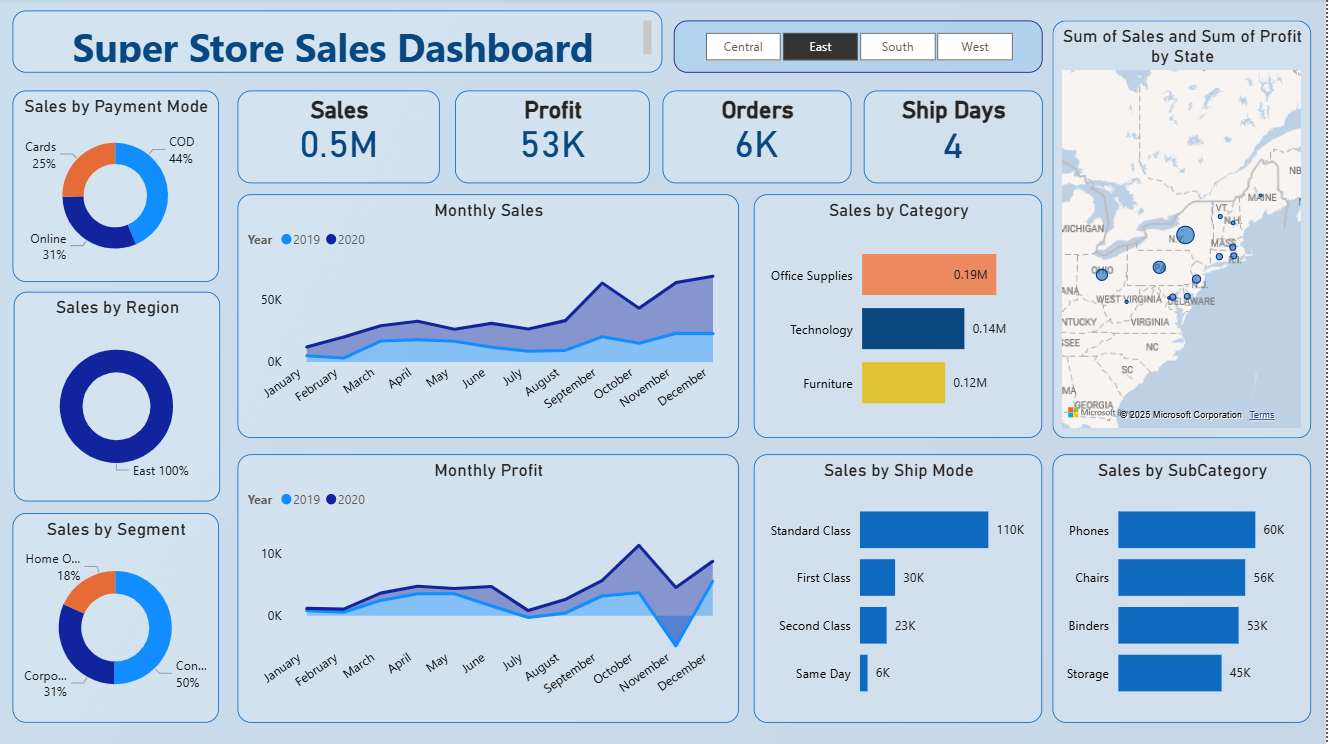

The page's visual inventory and layout, read from the dashboard file:
{"tool":"powerbi","page":{"name":"Page 1","canvas":[1280,720],"ordinal":0},"visuals":[{"type":"clusteredBarChart","title":"Sales by Category","fields":{"Category":["SuperStore_Sales_Dataset.Category"],"Y":["Sum(SuperStore_Sales_Dataset.Sales)"]},"box":[727.5,189.4,278.7,235.3],"z":0},{"type":"clusteredBarChart","title":"Sales by SubCategory","fields":{"Category":["SuperStore_Sales_Dataset.Sub-Category"],"Y":["Sum(SuperStore_Sales_Dataset.Sales)"]},"box":[1015.8,440.4,249.7,259.4],"z":1000},{"type":"clusteredBarChart","title":"Sales by Ship Mode","fields":{"Category":["SuperStore_Sales_Dataset.Ship Mode"],"Y":["Sum(SuperStore_Sales_Dataset.Sales)"]},"box":[727.5,440.4,278.7,259.4],"z":2000},{"type":"stackedAreaChart","title":"Monthly Sales ","fields":{"Y":["Sum(SuperStore_Sales_Dataset.Sales)"],"Category":["SuperStore_Sales_Dataset.Order Date.Variation.Date Hierarchy.Month","SuperStore_Sales_Dataset.Order Date.Variation.Date Hierarchy.Day"],"Series":["SuperStore_Sales_Dataset.Order Date.Variation.Date Hierarchy.Year"]},"box":[229.2,189.4,483.8,235.3],"z":3000},{"type":"stackedAreaChart","title":"Monthly Profit ","fields":{"Category":["SuperStore_Sales_Dataset.Order Date.Variation.Date Hierarchy.Month","SuperStore_Sales_Dataset.Order Date.Variation.Date Hierarchy.Day"],"Series":["SuperStore_Sales_Dataset.Order Date.Variation.Date Hierarchy.Year"],"Y":["Sum(SuperStore_Sales_Dataset.Profit)"]},"box":[229.2,440.4,483.8,259.4],"z":4000},{"type":"map","fields":{"Category":["SuperStore_Sales_Dataset.State"],"Size":["Sum(SuperStore_Sales_Dataset.Sales)"]},"box":[1015.8,21.7,249.7,403],"z":5000},{"type":"donutChart","title":"Sales by Segment","fields":{"Category":["SuperStore_Sales_Dataset.Segment"],"Y":["Sum(SuperStore_Sales_Dataset.Sales)"]},"box":[12.1,497.1,199.1,202.7],"z":6000},{"type":"donutChart","title":"Sales by Payment Mode","fields":{"Category":["SuperStore_Sales_Dataset.Payment Mode"],"Y":["Sum(SuperStore_Sales_Dataset.Sales)"]},"box":[12.1,89.3,199.1,184.6],"z":7000},{"type":"slicer","fields":{"Values":["SuperStore_Sales_Dataset.Region"]},"box":[650.3,21.7,355.9,50.7],"z":8000},{"type":"textbox","box":[12.1,12.1,627.3,60.3],"z":9000},{"type":"card","title":"Sales","fields":{"Values":["Sum(SuperStore_Sales_Dataset.Sales)"]},"box":[229.2,89.3,195.4,89.3],"z":10000},{"type":"card","title":"Profit","fields":{"Values":["Sum(SuperStore_Sales_Dataset.Profit)"]},"box":[439.1,89.3,188.2,89.3],"z":11000},{"type":"card","title":"Orders","fields":{"Values":["Sum(SuperStore_Sales_Dataset.Quantity)"]},"box":[639.4,89.3,182.2,89.3],"z":12000},{"type":"card","title":"Ship Days","fields":{"Values":["Avg(SuperStore_Sales_Dataset.AvgDelivery)"]},"box":[833.7,89.3,172.5,89.3],"z":13000},{"type":"donutChart","title":"Sales by Region","fields":{"Category":["SuperStore_Sales_Dataset.Region","SuperStore_Sales_Dataset.Segment"],"Y":["Sum(SuperStore_Sales_Dataset.Sales)"]},"box":[13.3,283.5,199.1,202.7],"z":14000}]}

Visuals, with their boxes in screenshot pixels (x1, y1, x2, y2), scaled from the page's 1280x720 canvas onto the 1329x744 screenshot:
"Sales by Category" clusteredBarChart: detection(755, 196, 1045, 439)
"Sales by SubCategory" clusteredBarChart: detection(1055, 455, 1314, 723)
"Sales by Ship Mode" clusteredBarChart: detection(755, 455, 1045, 723)
"Monthly Sales " stackedAreaChart: detection(238, 196, 740, 439)
"Monthly Profit " stackedAreaChart: detection(238, 455, 740, 723)
map - SuperStore_Sales_Dataset.State x Sum(SuperStore_Sales_Dataset.Sales): detection(1055, 22, 1314, 439)
"Sales by Segment" donutChart: detection(13, 514, 219, 723)
"Sales by Payment Mode" donutChart: detection(13, 92, 219, 283)
slicer - SuperStore_Sales_Dataset.Region: detection(675, 22, 1045, 75)
textbox: detection(13, 13, 664, 75)
"Sales" card: detection(238, 92, 441, 185)
"Profit" card: detection(456, 92, 651, 185)
"Orders" card: detection(664, 92, 853, 185)
"Ship Days" card: detection(866, 92, 1045, 185)
"Sales by Region" donutChart: detection(14, 293, 221, 502)
